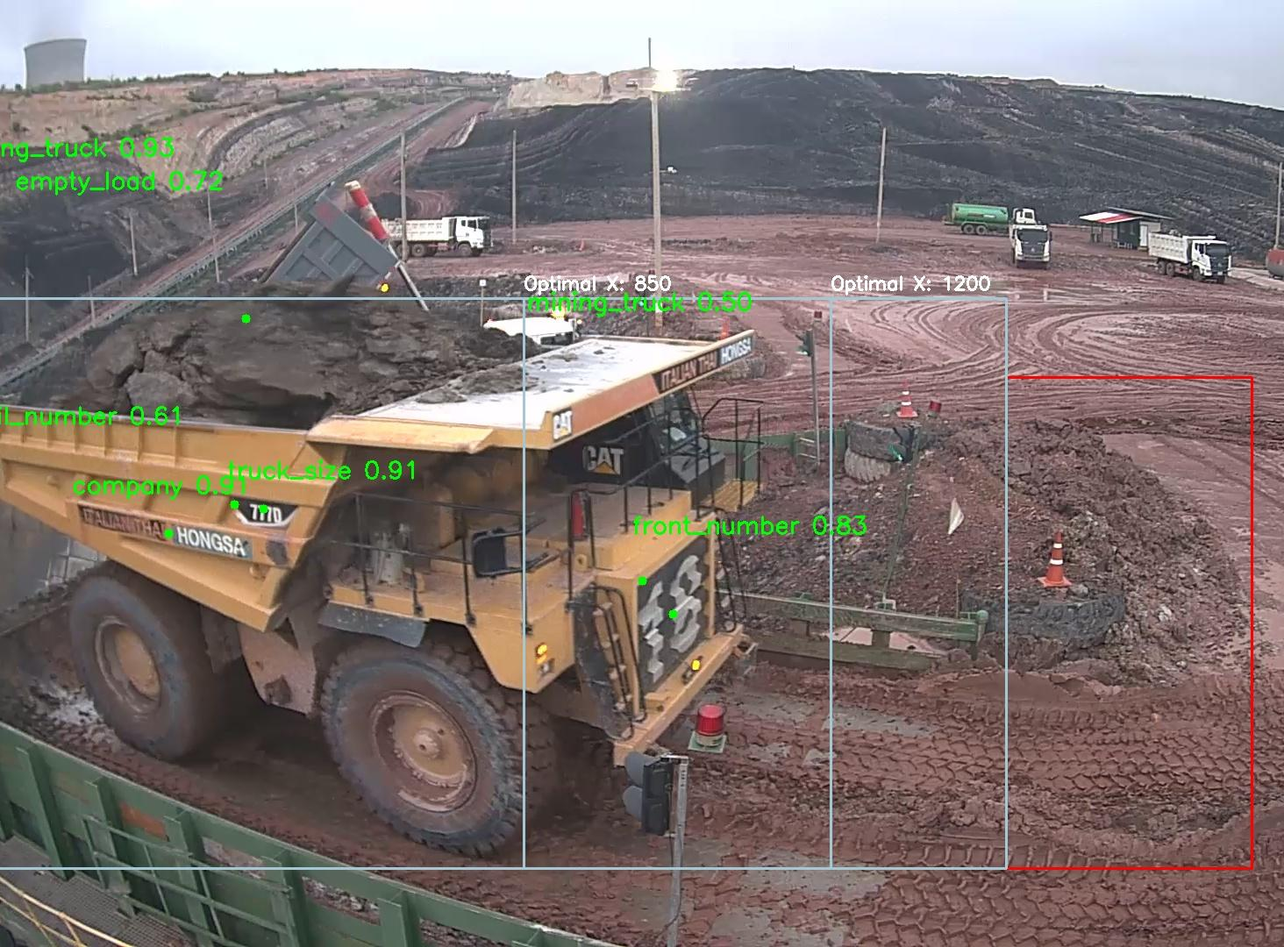company: (76, 499, 251, 565)
full_load: (127, 278, 447, 442)
mining_truck: (8, 242, 779, 847)
truck_size: (224, 489, 303, 535)
